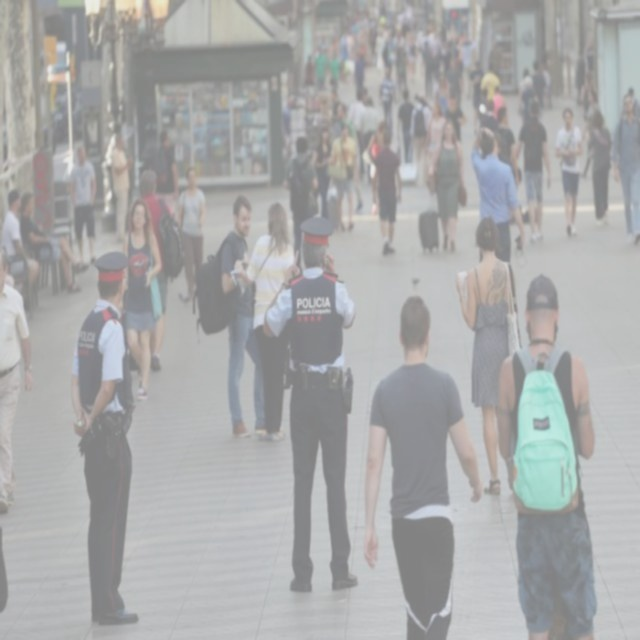pessoa: (363, 294, 482, 638), (497, 271, 601, 639), (262, 212, 358, 594), (69, 249, 139, 629), (456, 216, 516, 496), (232, 202, 299, 442), (116, 198, 162, 400), (218, 194, 256, 438), (0, 249, 34, 514), (138, 168, 177, 372), (471, 124, 526, 264), (18, 190, 90, 294), (276, 82, 338, 176), (425, 118, 467, 256), (512, 101, 552, 244), (333, 11, 459, 52), (284, 136, 319, 270), (612, 92, 640, 246), (176, 166, 206, 303), (371, 128, 403, 256), (0, 189, 41, 288), (323, 120, 358, 234), (554, 106, 584, 237), (68, 146, 99, 268), (336, 102, 363, 216), (586, 108, 612, 224), (110, 134, 134, 242), (154, 130, 180, 224), (310, 128, 336, 220), (408, 92, 432, 186), (492, 106, 520, 186), (424, 101, 447, 196), (366, 119, 388, 217), (344, 88, 368, 176), (580, 89, 602, 180), (377, 61, 398, 142), (431, 51, 466, 98), (359, 95, 378, 178), (397, 88, 415, 164), (468, 59, 486, 134), (486, 37, 504, 110), (442, 92, 466, 144), (350, 48, 370, 102), (419, 40, 436, 100), (446, 57, 464, 111), (380, 32, 393, 104), (479, 61, 501, 102), (394, 41, 410, 97), (579, 71, 599, 114), (531, 60, 547, 110), (419, 93, 432, 154), (0, 524, 9, 612), (574, 46, 586, 106), (520, 75, 538, 114), (620, 85, 640, 119), (314, 44, 328, 92), (326, 48, 343, 86), (438, 41, 453, 82), (540, 49, 552, 98), (480, 100, 500, 129), (304, 53, 316, 100), (407, 36, 418, 86), (462, 37, 475, 74), (438, 76, 450, 115), (518, 67, 534, 95), (492, 85, 505, 119), (359, 82, 368, 104), (480, 86, 490, 102), (111, 122, 122, 134)
